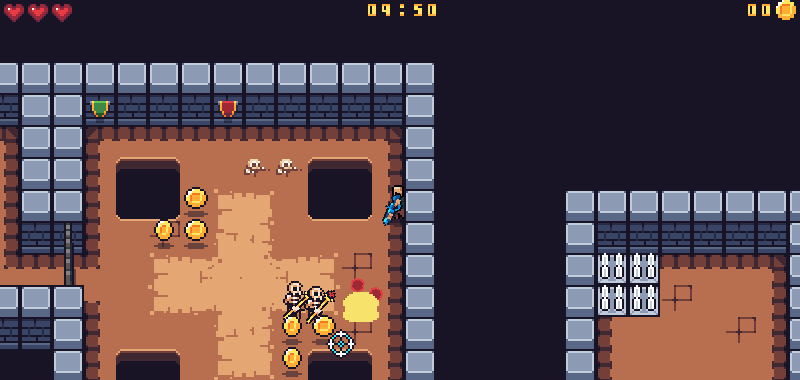enemy_skeleton: (306, 283, 336, 317), (284, 281, 303, 315)
enemy_skeleton_shoot: (350, 277, 366, 294), (369, 286, 384, 300)
gold: (309, 314, 335, 339), (152, 216, 175, 243), (183, 219, 209, 242), (282, 315, 302, 341), (282, 345, 300, 371)
trap_door: (55, 211, 79, 295)
trap_on: (597, 255, 660, 317)
w: (184, 185, 208, 209)
